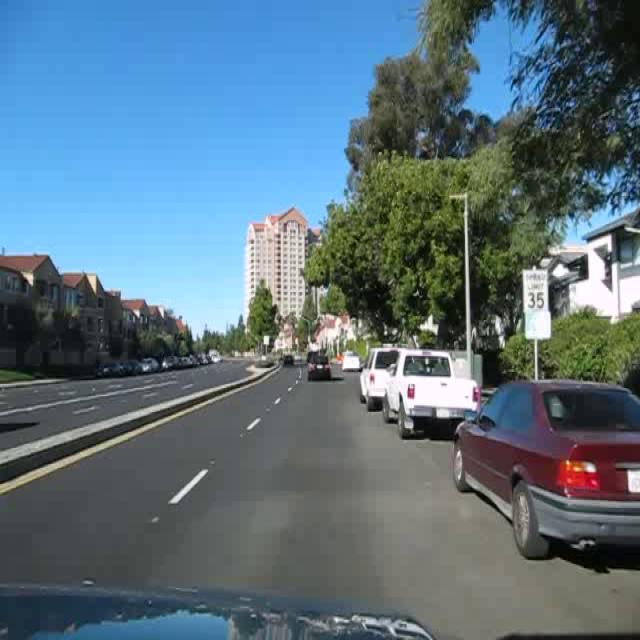speedLimit35: (522, 269, 548, 311)
